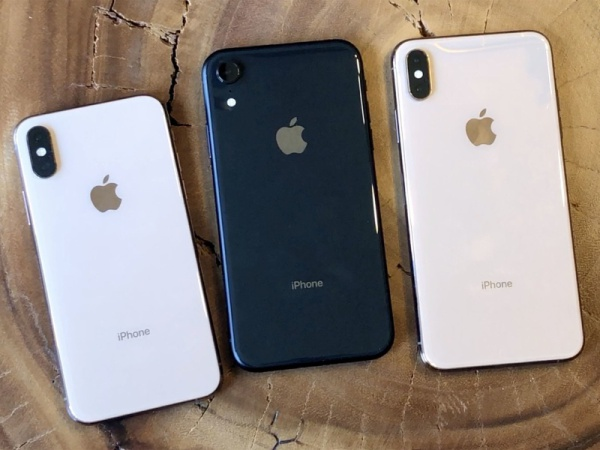apple: (267, 112, 317, 170), (456, 99, 506, 154), (86, 170, 133, 217)
